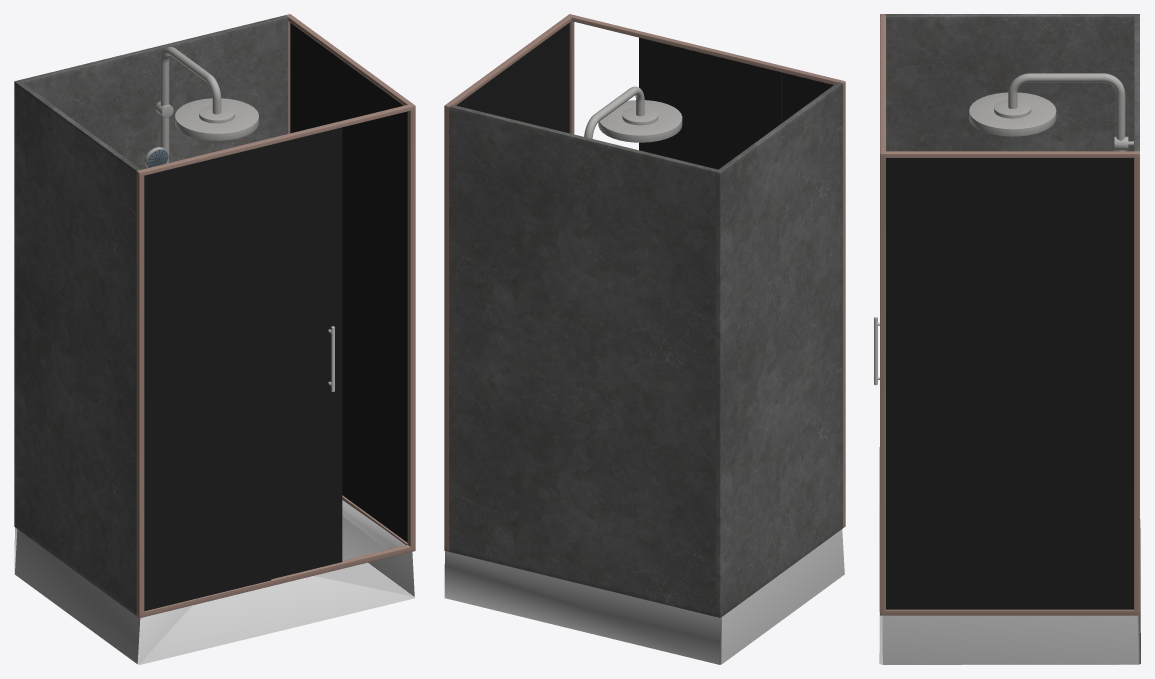
3 views of the same model, side by side, from view 1: azimuth 30°, elevation 25°; view 2: azimuth 150°, elevation 25°; view 3: azimuth 270°, elevation 25° (orthographic). The views are drawn at different scales.
Parts seen in each view (by area): view 1: Object_3, Object_6, Object_2, Object_4; view 2: Object_6, Object_3, Object_2, Object_4; view 3: Object_3, Object_6, Object_2, Object_4.
Part boxes in pixels (x1,y1,x2,y2): Object_3: [144, 23, 407, 611]; Object_6: [14, 14, 415, 618]; Object_2: [14, 500, 414, 664]; Object_4: [144, 46, 258, 167]; Object_6: [444, 14, 845, 617]; Object_3: [456, 23, 833, 169]; Object_2: [444, 529, 844, 664]; Object_4: [584, 86, 682, 142]; Object_3: [886, 158, 1133, 609]; Object_6: [874, 14, 1139, 615]; Object_2: [879, 519, 1140, 664]; Object_4: [969, 73, 1133, 151].
Bounding box in the file's own units: 1.3 × 2.26 × 1.05.
4 materials, 4 textured.
